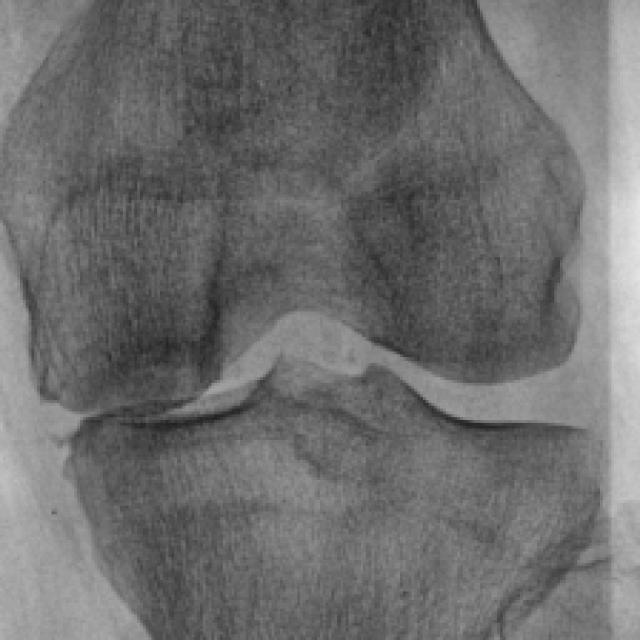femur: (1, 1, 580, 406)
tibia: (76, 369, 596, 637)
